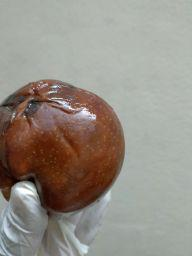Apple Rotten: (0, 69, 130, 219)
